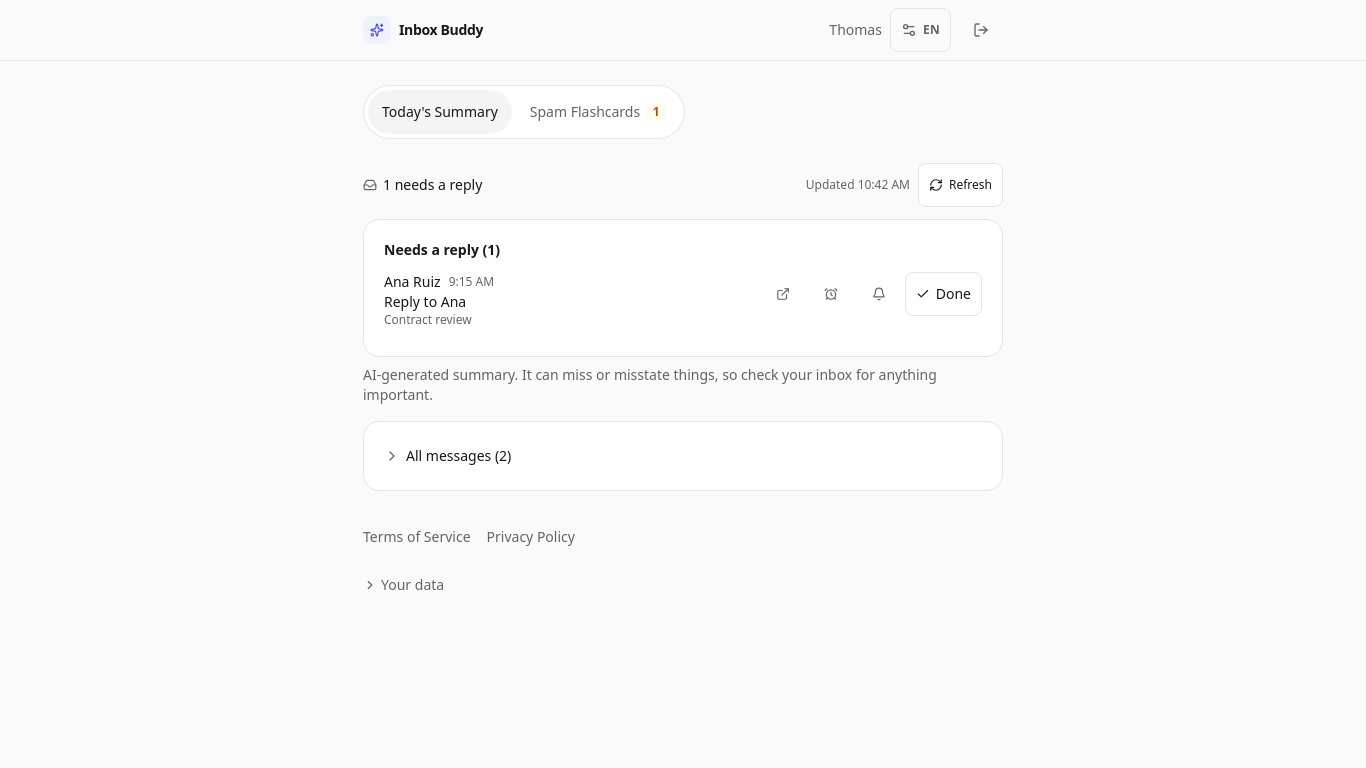
Scenario: Dashboard › summary tab › Snooze and Remind me › works when the browser refuses local storage
Click the button named "Snooze “Contract review”" at [831, 294], box [809,272,853,316]
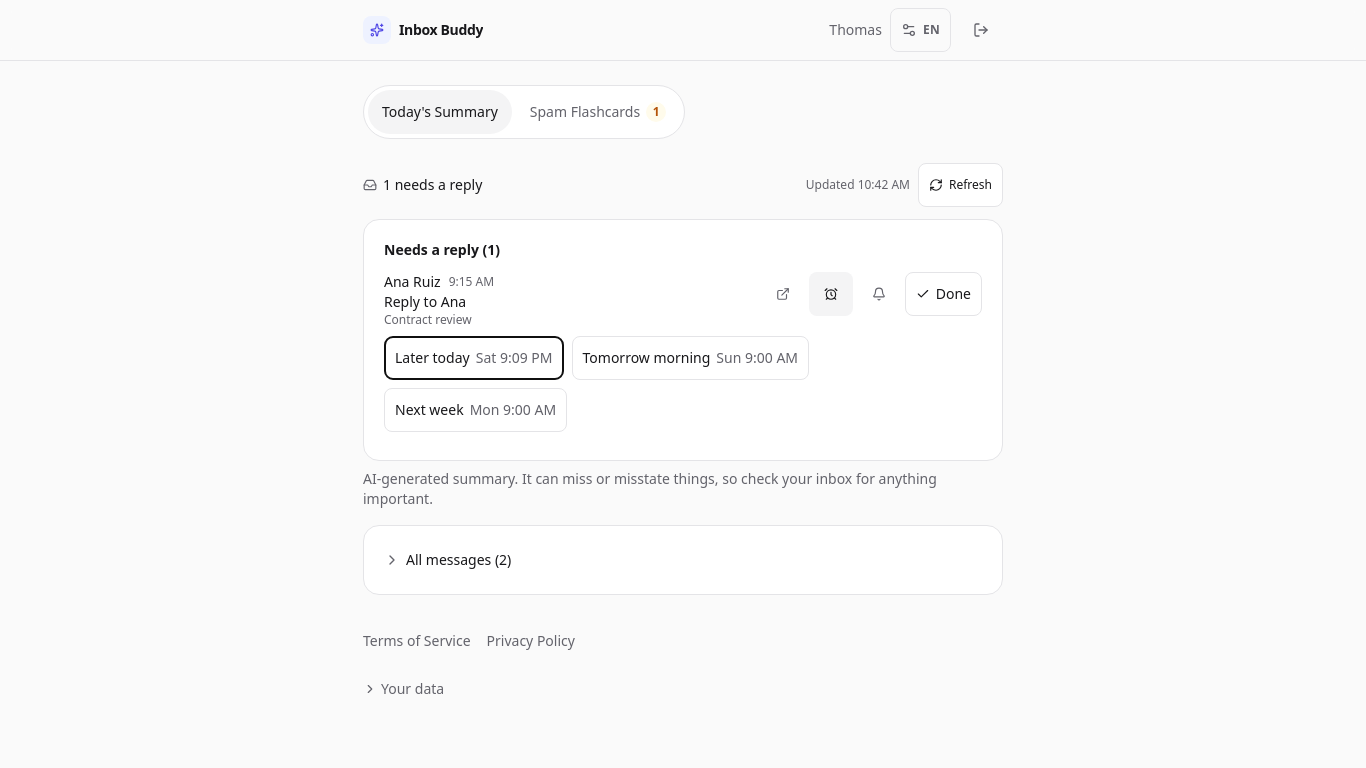
Click the button "Later today Sat 9:09 PM" at [474, 358], box [384,336,564,380]
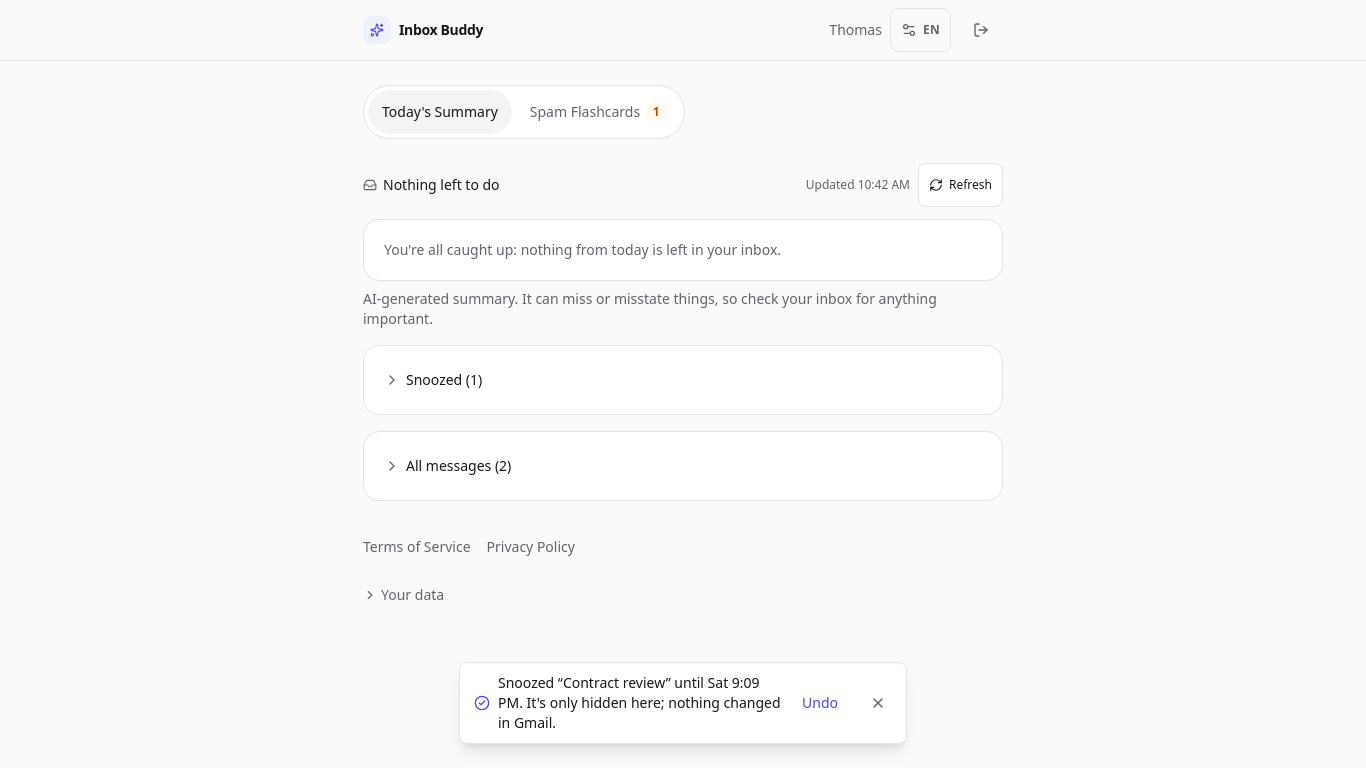
Result: the text "Reply to Ana" is gone
Result: the heading "Snoozed (1)" is shown at [384,370,482,389]
